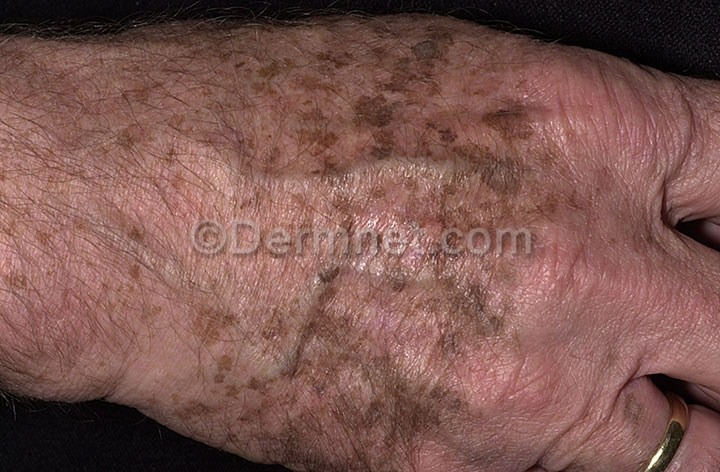Melasma: (152, 262, 520, 472), (380, 0, 501, 52)
